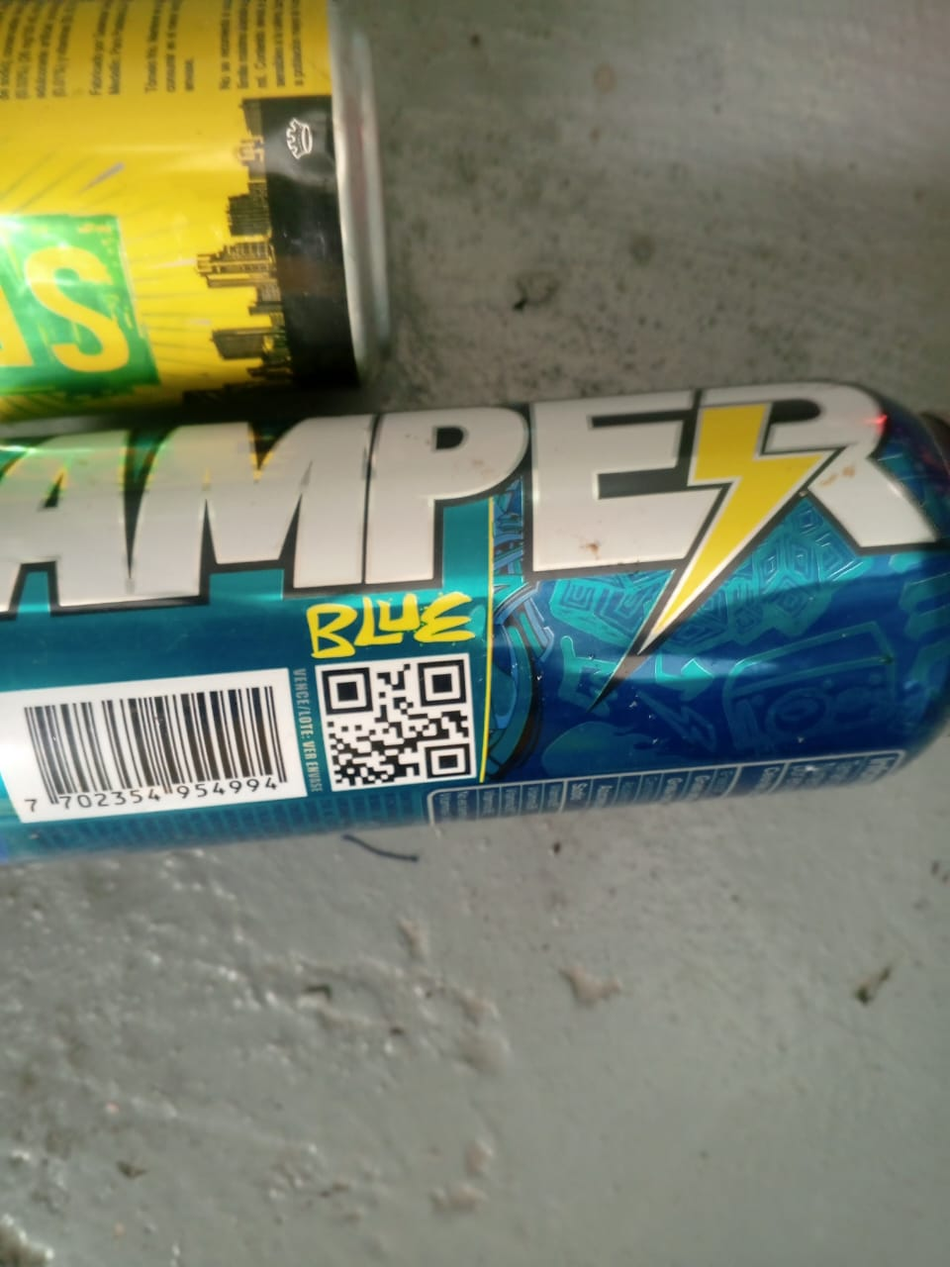Metal: (2, 382, 950, 868), (0, 0, 392, 385)
